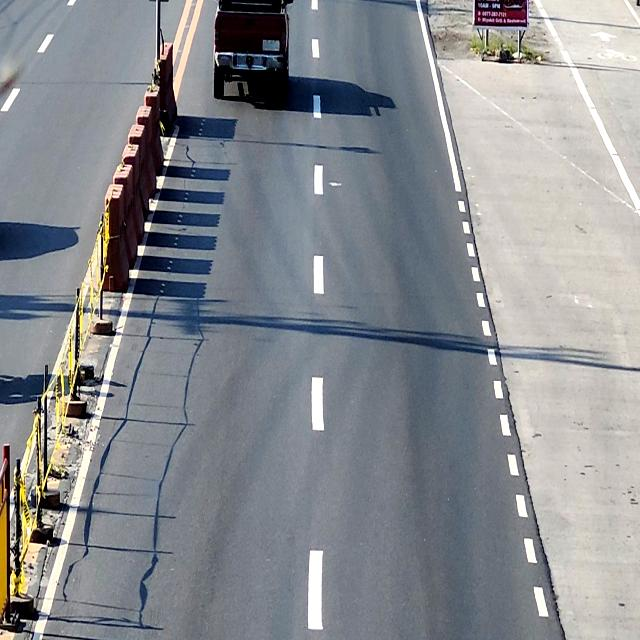Car: (212, 0, 294, 103)
License-Plate: (263, 39, 280, 51)
